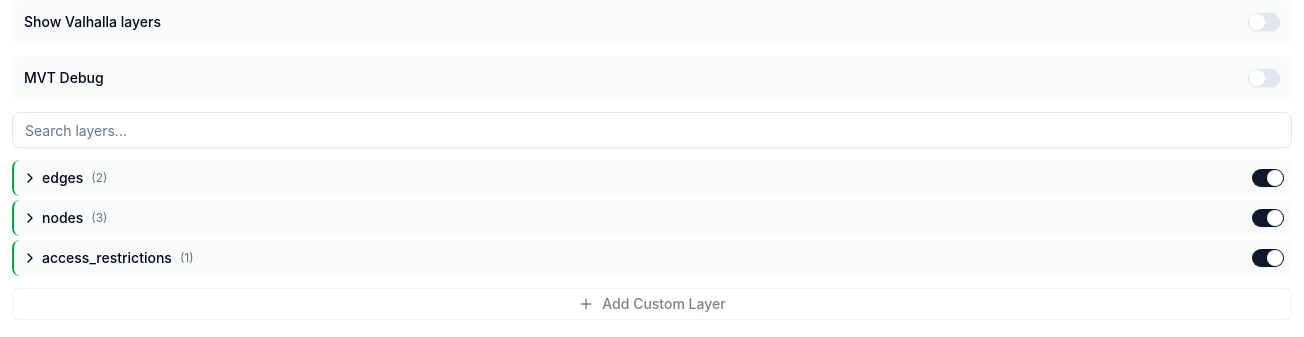
Test: TilesControl › search functionality › should filter layers by layer id
The width and height of the screenshot is (1304, 337).
Type "edges" into the field with placeholder "Search layers...".
click(652, 130); type("edges")  # box [12, 112, 1292, 148]
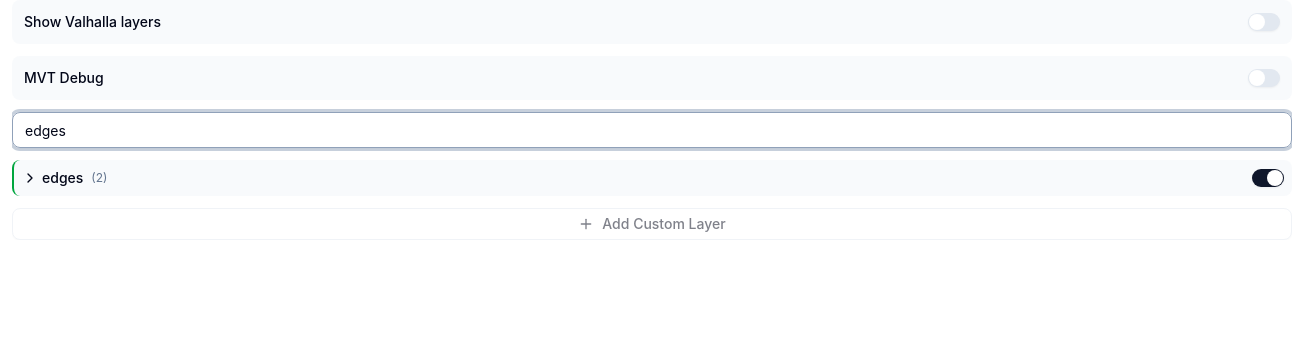
Expected: the text "edges" is shown, [42, 168, 83, 188]
Expected: the button "nodes" is gone
Expected: the button "access_restrictions" is gone
